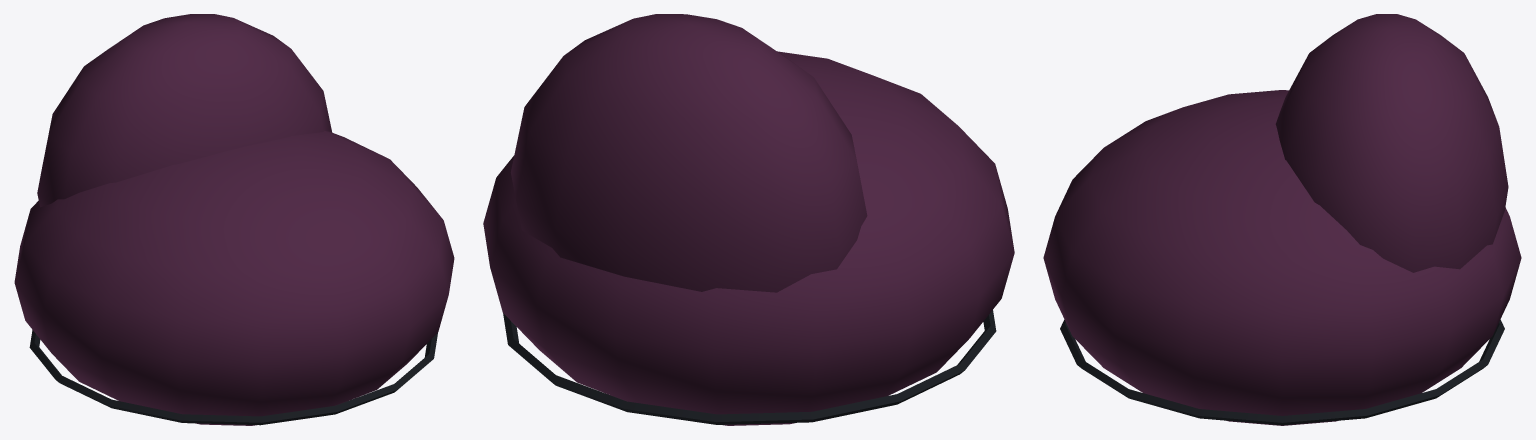
File: couch_bean_bag.glb
3 views of the same model, side by side, from view 1: azimuth 30°, elevation 25°; view 2: azimuth 150°, elevation 25°; view 3: azimuth 270°, elevation 25° (orthographic). The views are drawn at different scales.
Parts seen in each view (by area): view 1: couch_bean_bag; view 2: couch_bean_bag; view 3: couch_bean_bag.
Part boxes in pixels (x1,y1,x2,y2): couch_bean_bag: (14, 14, 454, 425); couch_bean_bag: (483, 14, 1014, 425); couch_bean_bag: (1043, 14, 1521, 425).
Bounding box in the file's own units: 1.1 × 0.921 × 1.1.
